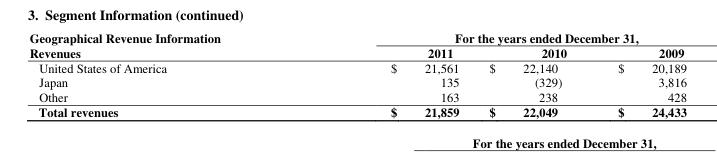table: (28, 28, 686, 120)
table column: (28, 28, 305, 120), (305, 28, 473, 120), (473, 28, 591, 120), (591, 28, 686, 120)
table column header: (28, 28, 686, 59)
table row: (28, 103, 686, 120), (28, 28, 686, 44), (28, 44, 686, 59), (28, 59, 686, 74), (28, 88, 686, 103), (28, 74, 686, 88)
table spanning cell: (28, 28, 305, 59), (305, 28, 686, 44)
